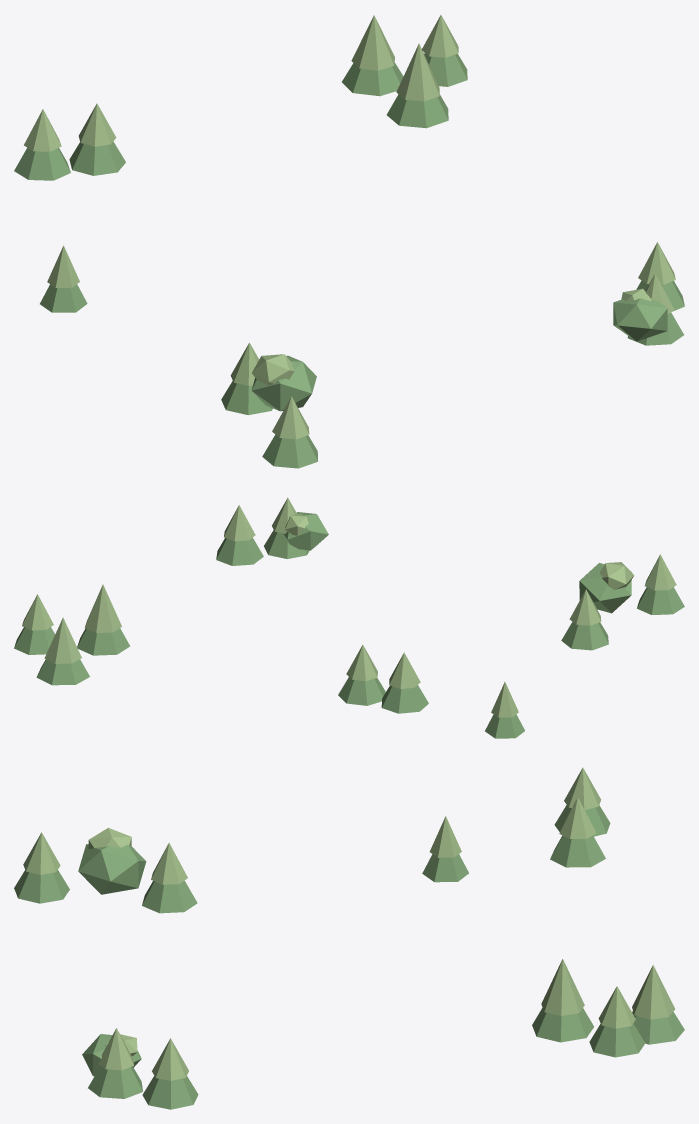
File: windward_ridge_gate_wind_canopies.fbx
3 views of the same model, one above another, from view 1: azimuth 30°, elevation 25°; view 2: azimuth 150°, elevation 25°; view 3: azimuth 270°, elevation 25° (orthographic). The views are drawn at different scales.
Visible parts, largest first — view 1: chunk_windward_ridge_gate__tree_canopy_13, chunk_windward_ridge_gate__tree_canopy_10, chunk_windward_ridge_gate__tree_canopy_16, chunk_windward_ridge_gate__tree_canopy_15, chunk_windward_ridge_gate__tree_canopy_11, chunk_windward_ridge_gate__tree_canopy_18, chunk_windward_ridge_gate__tree_canopy_04, chunk_windward_ridge_gate__tree_canopy_17, chunk_windward_ridge_gate__tree_canopy_09, chunk_windward_ridge_gate__tree_canopy_06, chunk_windward_ridge_gate__tree_canopy_02, chunk_windward_ridge_gate__tree_canopy_24 (+8 smaller); view 2: chunk_windward_ridge_gate__tree_canopy_10, chunk_windward_ridge_gate__tree_canopy_16, chunk_windward_ridge_gate__tree_canopy_09, chunk_windward_ridge_gate__tree_canopy_06, chunk_windward_ridge_gate__tree_canopy_18, chunk_windward_ridge_gate__tree_canopy_11, chunk_windward_ridge_gate__tree_canopy_22, chunk_windward_ridge_gate__tree_canopy_15, chunk_windward_ridge_gate__tree_canopy_04, chunk_windward_ridge_gate__tree_canopy_17, chunk_windward_ridge_gate__tree_canopy_13, chunk_windward_ridge_gate__tree_canopy_24 (+11 smaller); view 3: chunk_windward_ridge_gate__tree_canopy_10, chunk_windward_ridge_gate__tree_canopy_16, chunk_windward_ridge_gate__tree_canopy_15, chunk_windward_ridge_gate__tree_canopy_22, chunk_windward_ridge_gate__tree_canopy_24, chunk_windward_ridge_gate__tree_canopy_04, chunk_windward_ridge_gate__tree_canopy_17, chunk_windward_ridge_gate__tree_canopy_06, chunk_windward_ridge_gate__tree_canopy_19, chunk_windward_ridge_gate__tree_canopy_11, chunk_windward_ridge_gate__tree_canopy_18, chunk_windward_ridge_gate__tree_canopy_02 (+11 smaller).
Boxes of the visible parts, bbox=[...] form: chunk_windward_ridge_gate__tree_canopy_13: bbox=[613, 298, 667, 341]; chunk_windward_ridge_gate__tree_canopy_10: bbox=[251, 355, 316, 411]; chunk_windward_ridge_gate__tree_canopy_16: bbox=[386, 94, 448, 128]; chunk_windward_ridge_gate__tree_canopy_15: bbox=[396, 43, 439, 101]; chunk_windward_ridge_gate__tree_canopy_11: bbox=[69, 141, 125, 175]; chunk_windward_ridge_gate__tree_canopy_18: bbox=[342, 62, 403, 96]; chunk_windward_ridge_gate__tree_canopy_04: bbox=[262, 434, 317, 468]; chunk_windward_ridge_gate__tree_canopy_17: bbox=[351, 15, 394, 70]; chunk_windward_ridge_gate__tree_canopy_09: bbox=[14, 148, 70, 180]; chunk_windward_ridge_gate__tree_canopy_06: bbox=[221, 381, 272, 415]; chunk_windward_ridge_gate__tree_canopy_02: bbox=[40, 284, 87, 312]; chunk_windward_ridge_gate__tree_canopy_24: bbox=[424, 53, 467, 86]; chunk_windward_ridge_gate__tree_canopy_10: bbox=[579, 563, 631, 613]; chunk_windward_ridge_gate__tree_canopy_16: bbox=[77, 628, 130, 655]; chunk_windward_ridge_gate__tree_canopy_09: bbox=[381, 685, 428, 713]; chunk_windward_ridge_gate__tree_canopy_06: bbox=[561, 622, 608, 650]; chunk_windward_ridge_gate__tree_canopy_18: bbox=[36, 659, 89, 685]; chunk_windward_ridge_gate__tree_canopy_11: bbox=[338, 677, 385, 705]; chunk_windward_ridge_gate__tree_canopy_22: bbox=[216, 537, 263, 565]; chunk_windward_ridge_gate__tree_canopy_15: bbox=[84, 584, 121, 633]; chunk_windward_ridge_gate__tree_canopy_04: bbox=[637, 587, 684, 614]; chunk_windward_ridge_gate__tree_canopy_17: bbox=[44, 617, 81, 663]; chunk_windward_ridge_gate__tree_canopy_13: bbox=[283, 512, 328, 550]; chunk_windward_ridge_gate__tree_canopy_24: bbox=[14, 627, 54, 654]; chunk_windward_ridge_gate__tree_canopy_10: bbox=[78, 844, 146, 894]; chunk_windward_ridge_gate__tree_canopy_16: bbox=[532, 1008, 593, 1042]; chunk_windward_ridge_gate__tree_canopy_15: bbox=[541, 959, 584, 1015]; chunk_windward_ridge_gate__tree_canopy_22: bbox=[142, 1076, 198, 1109]; chunk_windward_ridge_gate__tree_canopy_24: bbox=[589, 1023, 645, 1057]; chunk_windward_ridge_gate__tree_canopy_04: bbox=[14, 870, 69, 903]; chunk_windward_ridge_gate__tree_canopy_17: bbox=[632, 965, 675, 1019]; chunk_windward_ridge_gate__tree_canopy_06: bbox=[142, 880, 197, 913]; chunk_windward_ridge_gate__tree_canopy_19: bbox=[88, 1066, 142, 1098]; chunk_windward_ridge_gate__tree_canopy_11: bbox=[550, 835, 605, 867]; chunk_windward_ridge_gate__tree_canopy_18: bbox=[632, 1011, 684, 1044]; chunk_windward_ridge_gate__tree_canopy_02: bbox=[422, 854, 468, 882].
Size of the model in its own units: 180 by 48.38 by 210.
